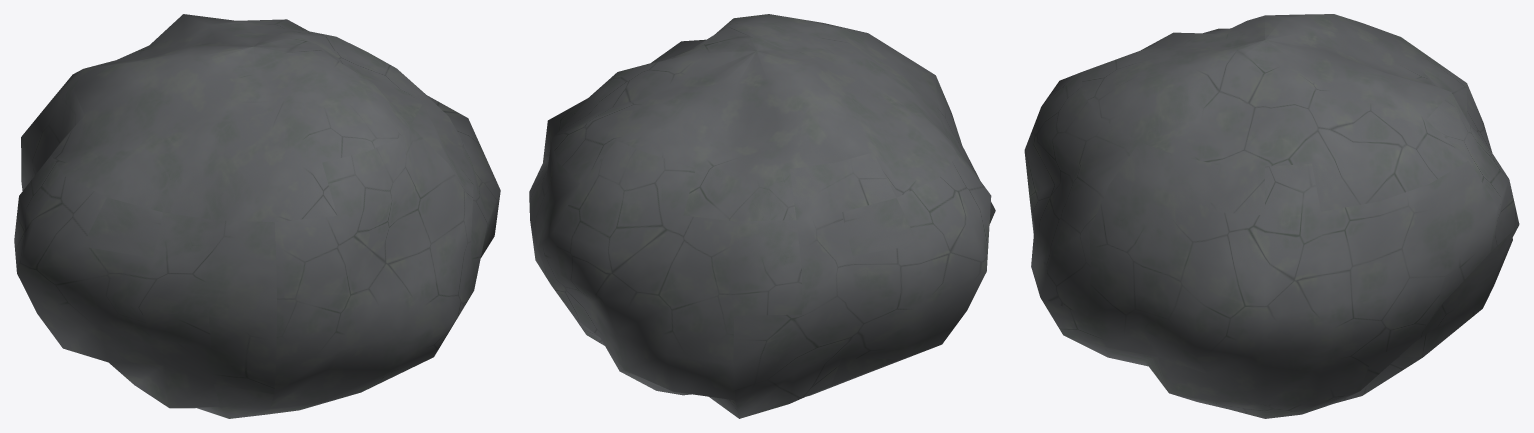
Rendered from SM_Island_Rock_C.fbx.
3 renders of one model, left to right at view 1: azimuth 30°, elevation 25°; view 2: azimuth 150°, elevation 25°; view 3: azimuth 270°, elevation 25°, orthographic. The views are drawn at different scales.
Parts seen in each view (by area): view 1: SM_Island_Rock_C; view 2: SM_Island_Rock_C; view 3: SM_Island_Rock_C.
Part boxes in pixels (bbox=[...]): SM_Island_Rock_C: bbox=[14, 14, 500, 418]; SM_Island_Rock_C: bbox=[529, 14, 995, 418]; SM_Island_Rock_C: bbox=[1024, 14, 1519, 418].
Size of the model in its own units: 464 by 337 by 436.
1 material, 1 textured.
